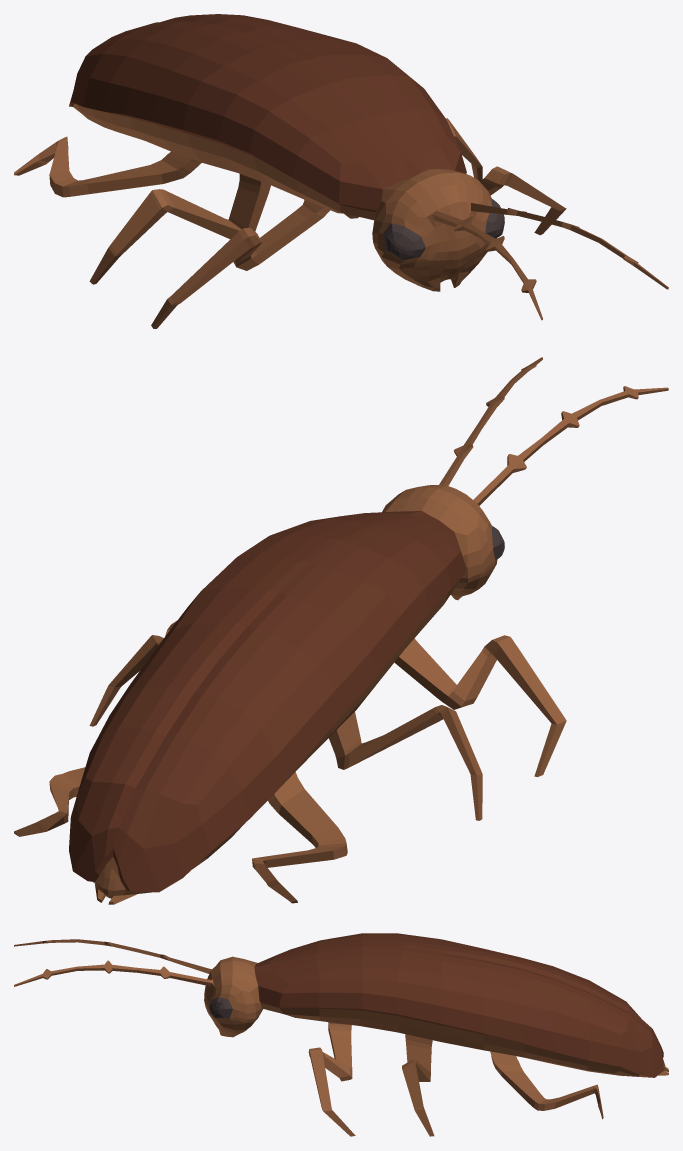
File: 3DObj_Player_V1.fbx
The picture shows the model from 3 angles, top to bottom: view 1: azimuth 30°, elevation 25°; view 2: azimuth 150°, elevation 25°; view 3: azimuth 270°, elevation 25°; orthographic projection. The views are drawn at different scales.
Visible parts, largest first — view 1: body; view 2: body; view 3: body.
Boxes of the visible parts, box(x1,y1,x2,y2) form: body: box(14, 14, 668, 328); body: box(14, 357, 668, 904); body: box(14, 933, 668, 1136).
Bounding box in the file's own units: 44.96 × 21.28 × 98.47.
